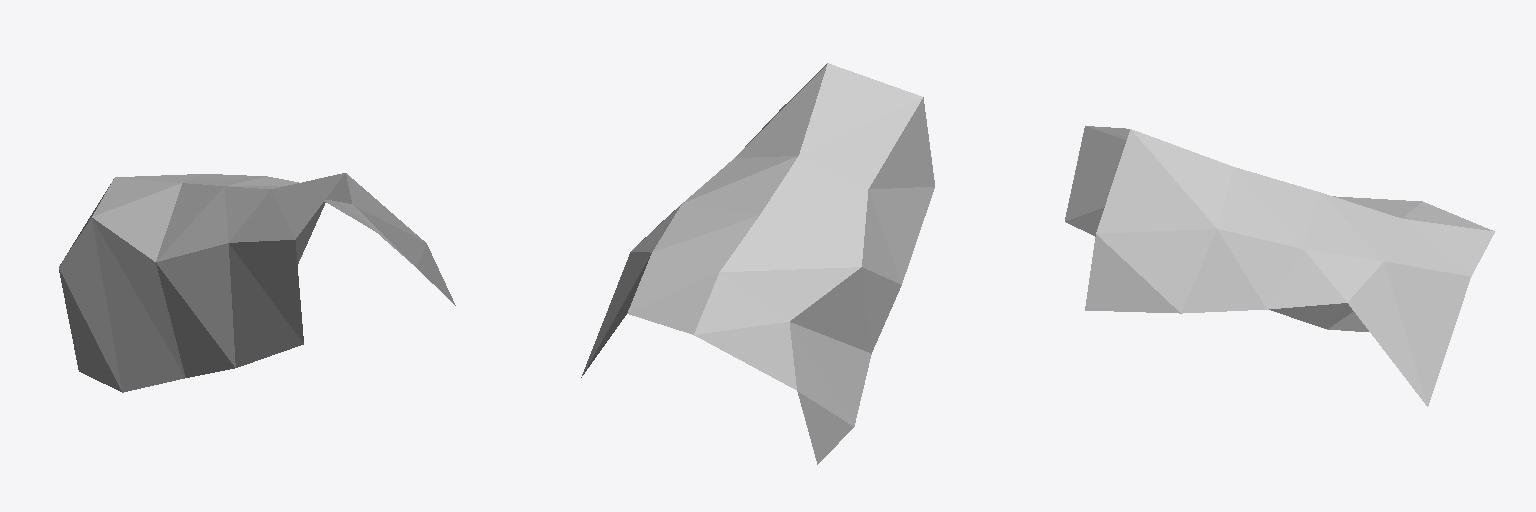
File: shoe top.obj
3 views of the same model, side by side, from view 1: azimuth 30°, elevation 25°; view 2: azimuth 150°, elevation 25°; view 3: azimuth 270°, elevation 25° (orthographic).
Parts seen in each view (by area): view 1: shoe_top; view 2: shoe_top; view 3: shoe_top.
Boxes of the visible parts, x1,y1,x2,y2 form: shoe_top: [59, 173, 455, 392]; shoe_top: [581, 63, 934, 464]; shoe_top: [1065, 126, 1494, 406].
Size of the model in its own units: 52.45 by 59.47 by 86.37.